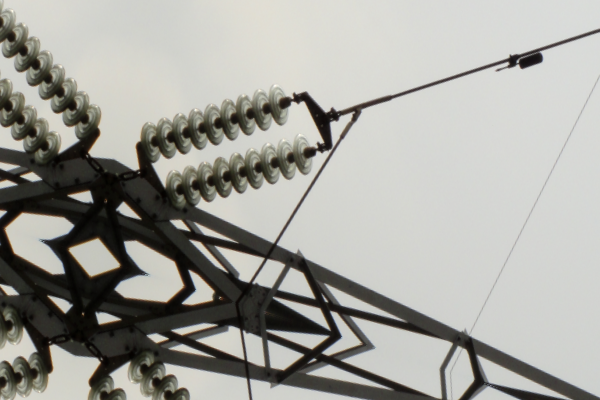damper_defect: (492, 50, 545, 75)
